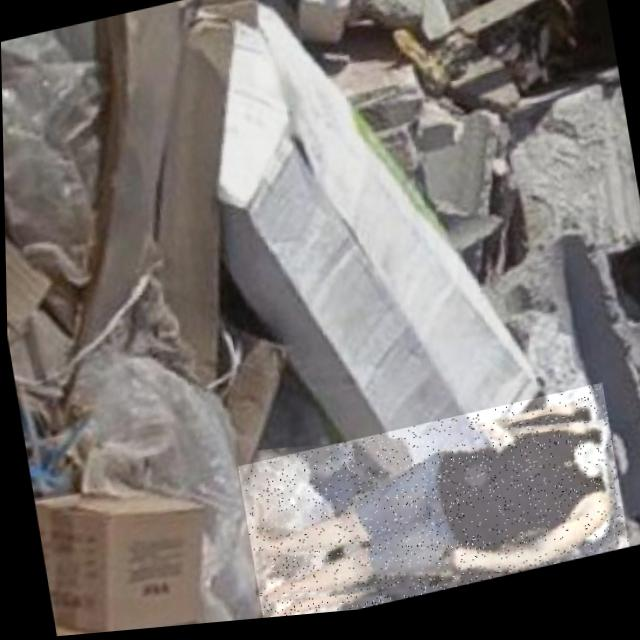Person in Rubble: (234, 392, 626, 624)
